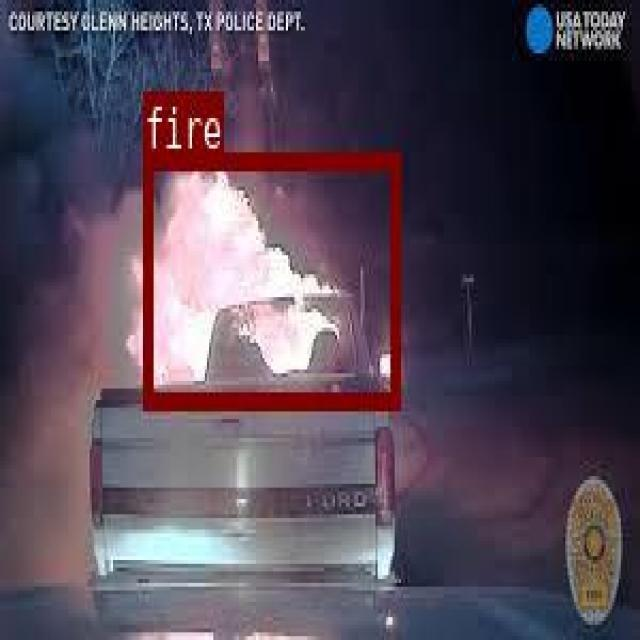fire: (142, 150, 397, 405)
